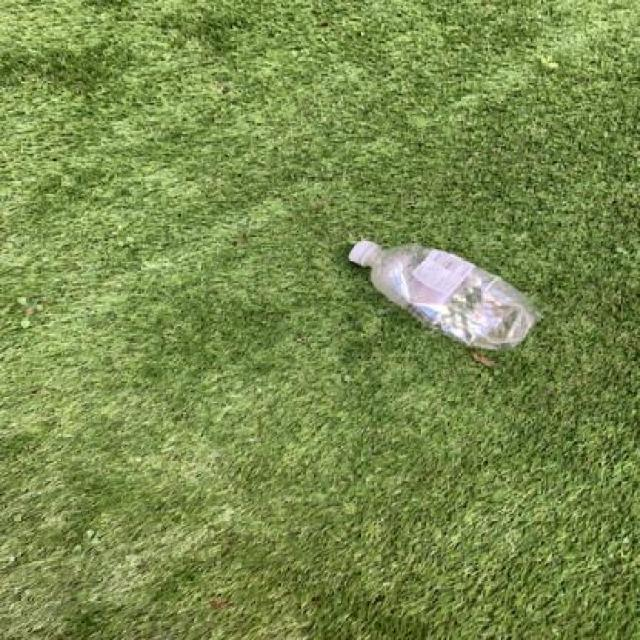trash: (342, 234, 542, 361)
